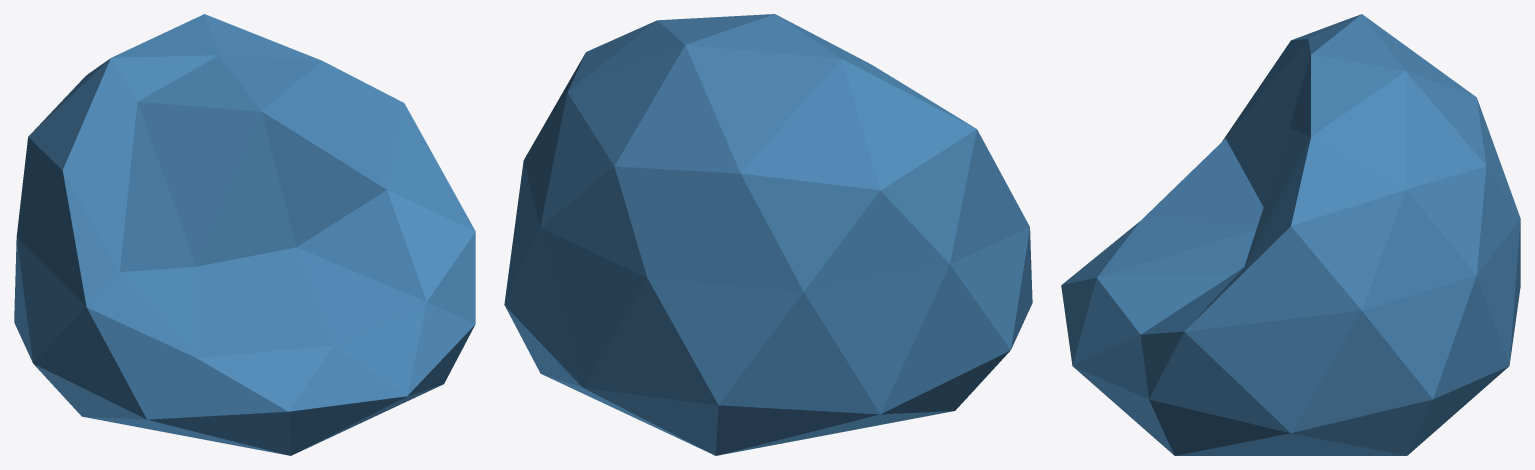
Rendered from beanbag.glb.
3 renders of one model, left to right at view 1: azimuth 30°, elevation 25°; view 2: azimuth 150°, elevation 25°; view 3: azimuth 270°, elevation 25°, orthographic. The views are drawn at different scales.
Parts seen in each view (by area): view 1: Icosphere; view 2: Icosphere; view 3: Icosphere.
Boxes of the visible parts, <box> form: Icosphere: <box>14,14,475,455</box>; Icosphere: <box>504,14,1032,455</box>; Icosphere: <box>1061,14,1520,455</box>.
Size of the model in its own units: 5.42 by 4.15 by 5.28.
